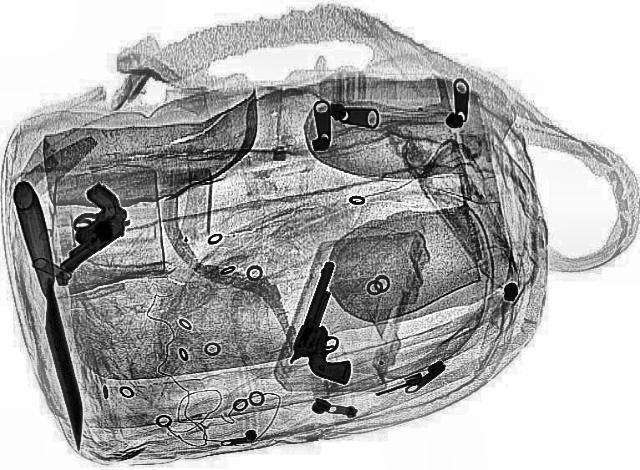Gun: (280, 260, 390, 384), (15, 181, 152, 275)
Knife: (10, 179, 92, 448)
